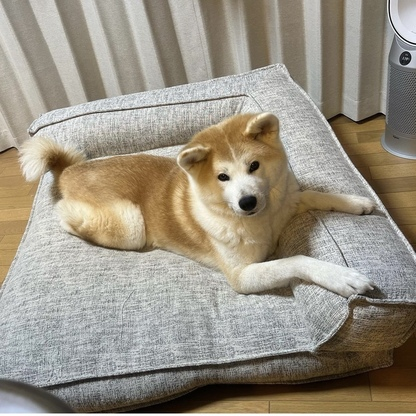akita: (15, 105, 386, 307)
